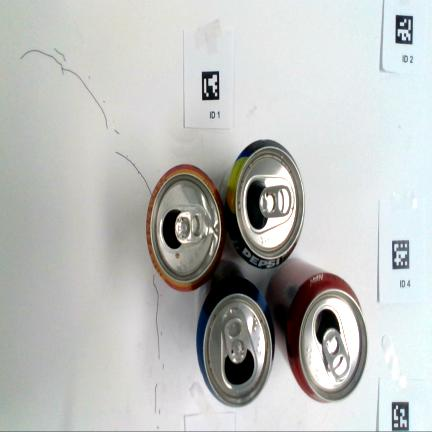can_coke_decaf: (146, 164, 225, 291)
can_coke_zero: (266, 258, 367, 402)
can_pepsi: (196, 261, 274, 406)
can_pepsi_zero: (226, 140, 304, 268)
